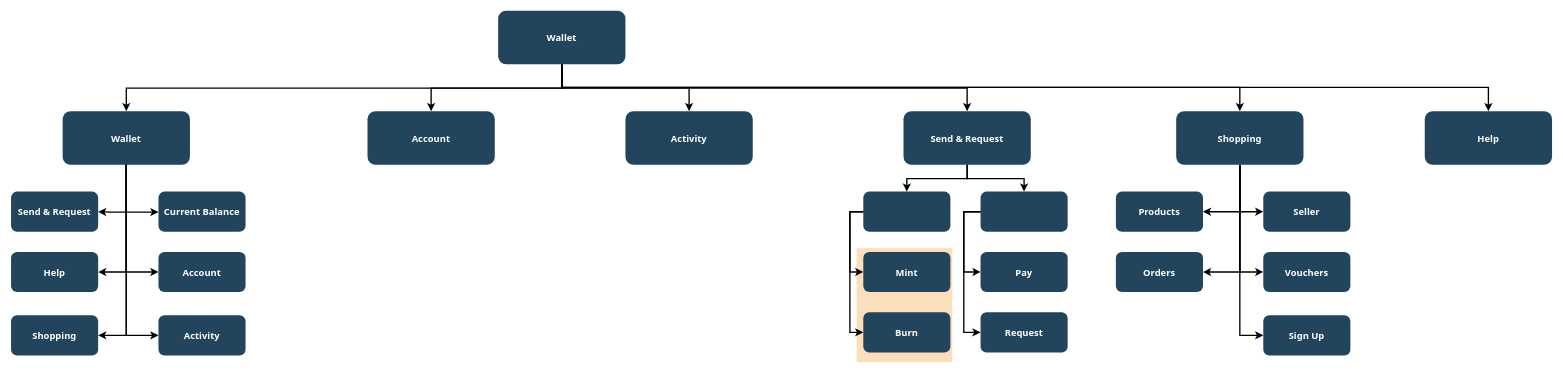
Some shapes in this 1563 by 373 pixel diagram are drawn without their labels. The shapes that lost their labels are listed below. From the top down, each one's box as (x1, y1, x2, y2) in pixels, then its label:
(863, 191, 950, 231): Local Transfer
(980, 191, 1067, 231): Remit Int.
